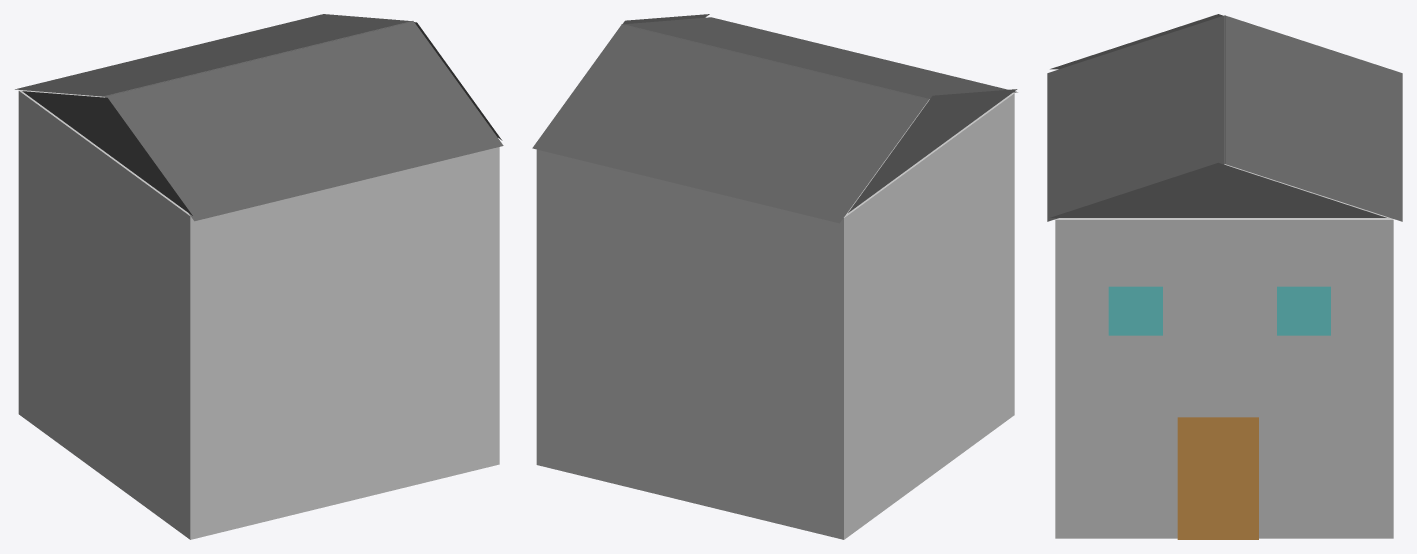
The model's file is house1.fbx.
3 views of the same model, side by side, from view 1: azimuth 30°, elevation 25°; view 2: azimuth 150°, elevation 25°; view 3: azimuth 270°, elevation 25° (orthographic).
Visible parts, largest first — view 1: house; view 2: house; view 3: house.
Boxes of the visible parts, x1,y1,x2,y2 form: house: [15, 14, 503, 539]; house: [532, 14, 1017, 539]; house: [1047, 14, 1402, 539].
Size of the model in its own units: 264 by 307 by 262.
